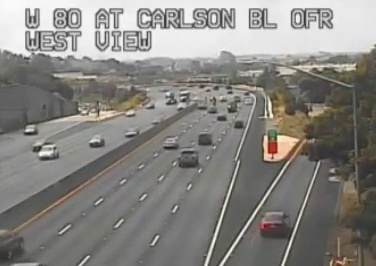car: (261, 212, 288, 235), (177, 148, 199, 167), (197, 132, 213, 145), (163, 137, 178, 148)
